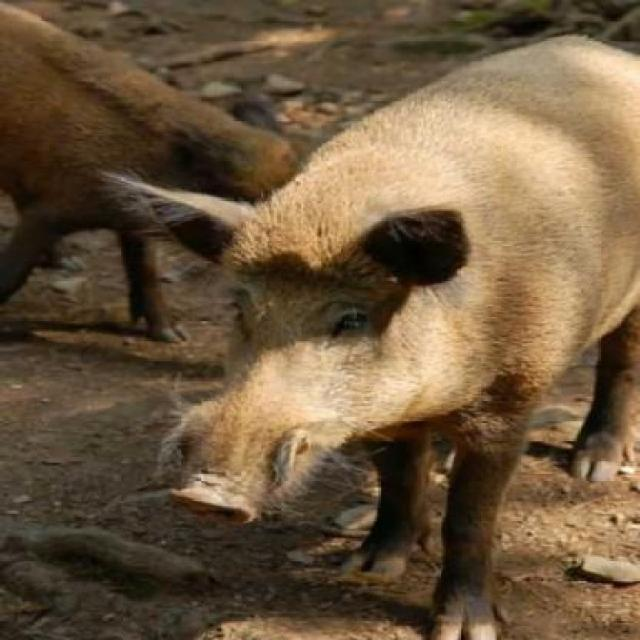pig: (174, 14, 638, 598)
